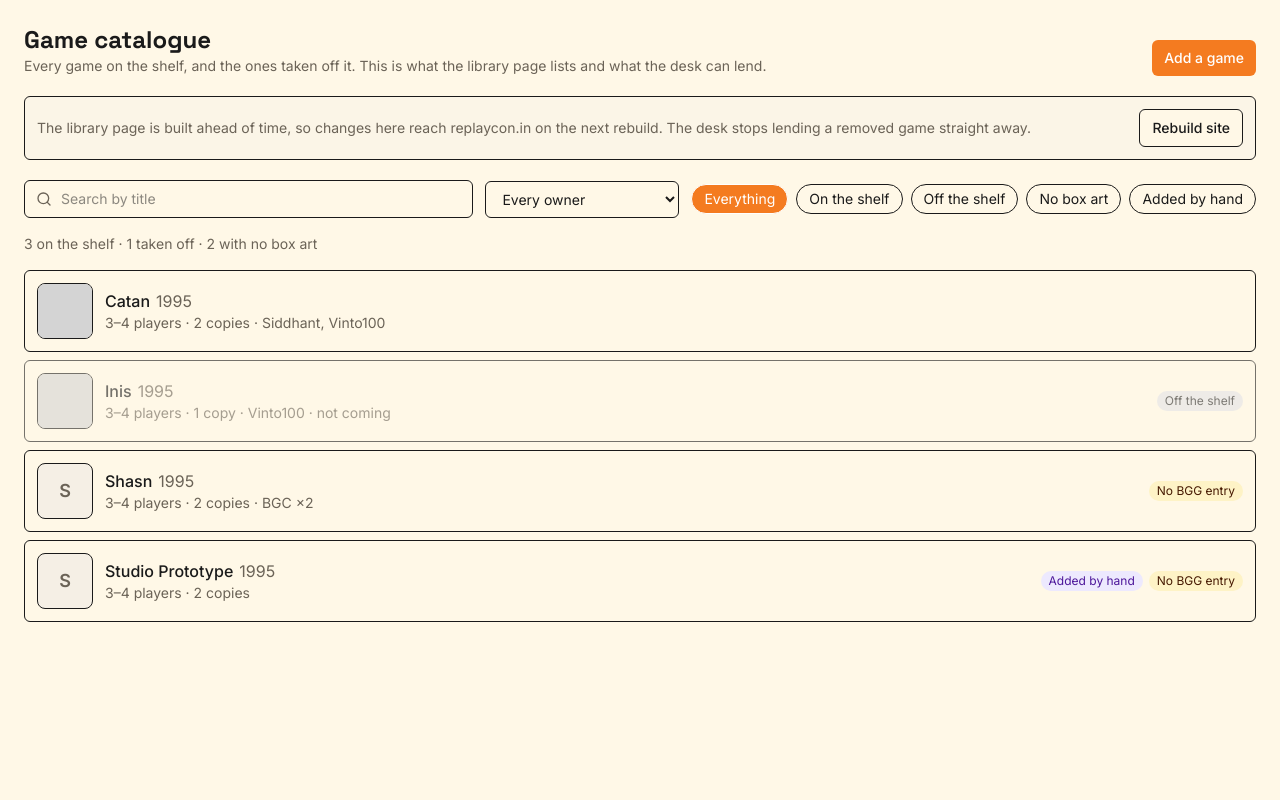
Test case: the catalogue list › finds a game by title
This screenshot has width=1280, height=800.
Check: the text "Catan" is shown, box [105,291,150,311]
Type "shas" into the search field named "Search the catalogue". click: (249, 199)
box: [24,180,473,218]
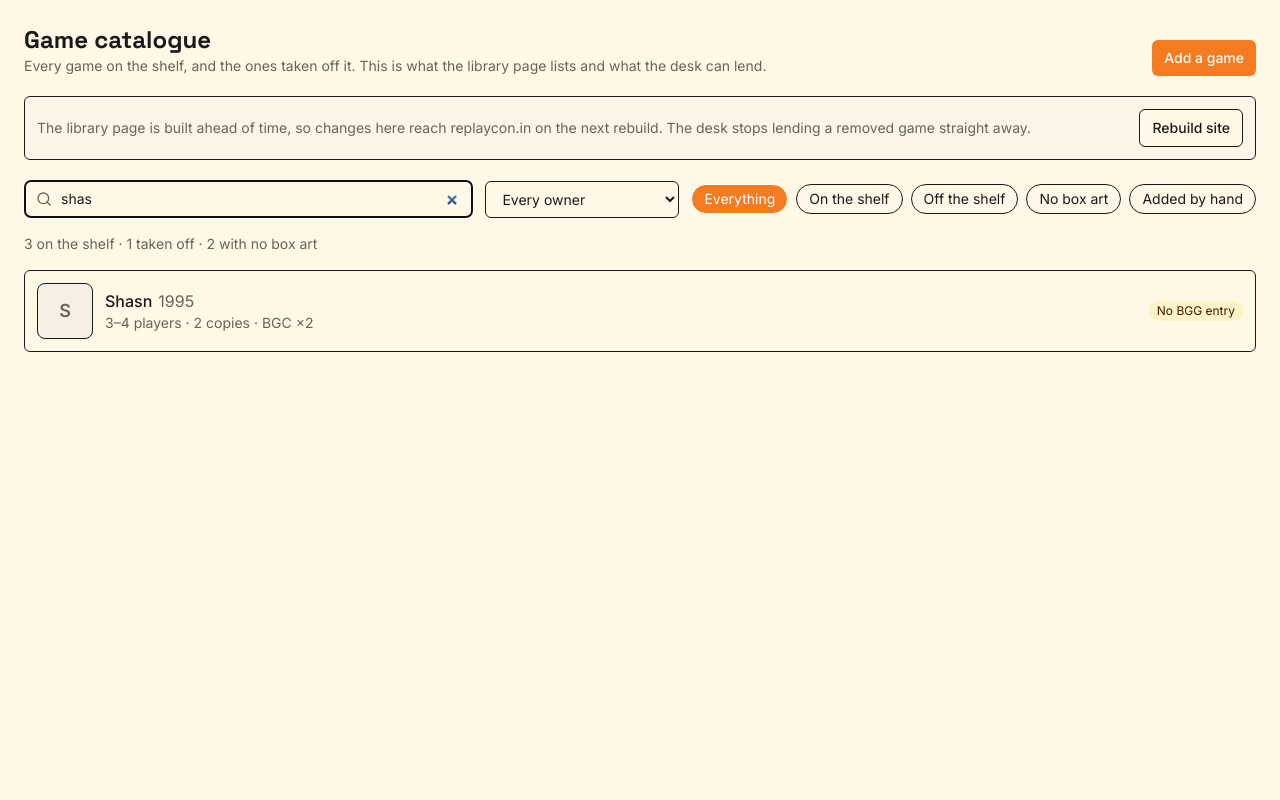
Check: the text "Shasn" is shown, box [105,291,152,311]
Check: the link "Catan" is gone
